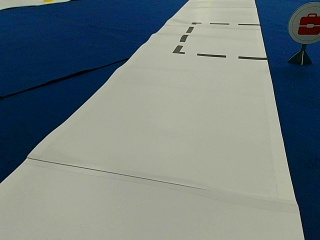company: (288, 2, 320, 43)
